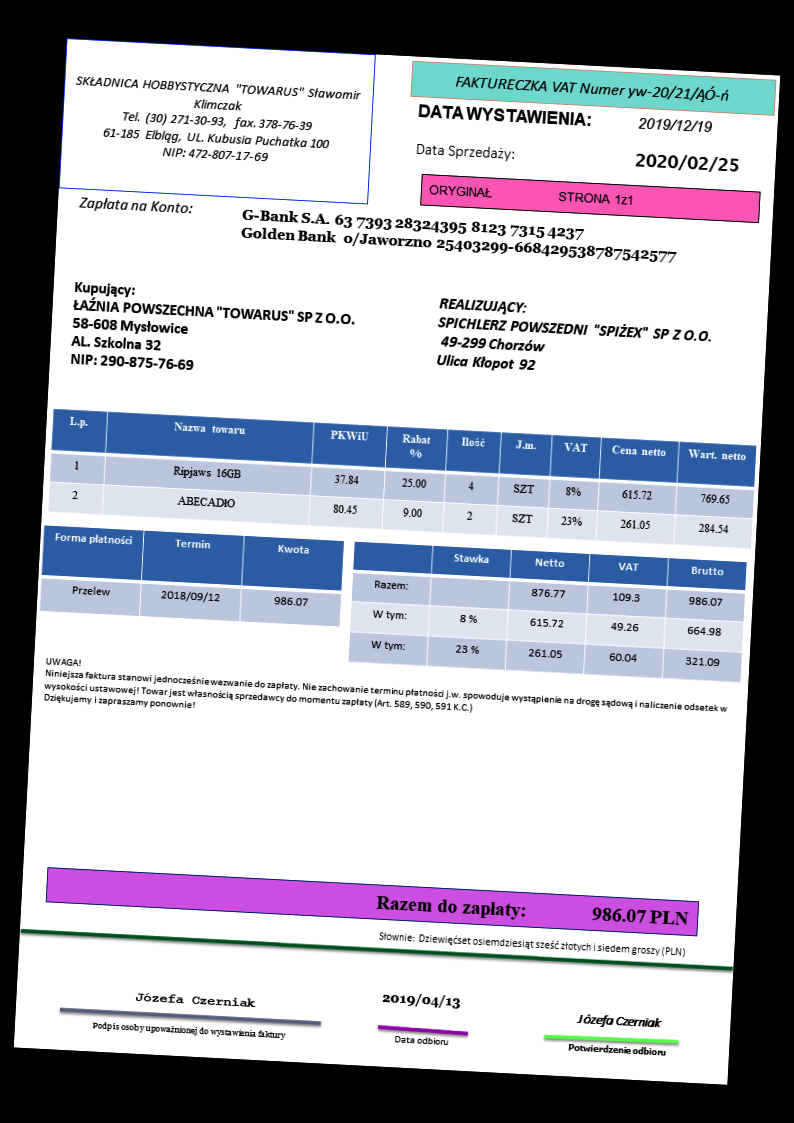Table: (46, 405, 757, 552), (347, 540, 749, 685), (38, 524, 344, 629)
TextBox: (41, 652, 731, 742), (67, 276, 358, 381), (67, 70, 365, 171), (238, 203, 680, 268), (433, 293, 716, 385), (373, 890, 690, 931), (450, 68, 734, 107), (376, 927, 690, 961), (425, 179, 638, 210), (415, 99, 595, 131), (89, 1017, 288, 1042), (632, 147, 742, 175), (77, 192, 193, 216), (414, 137, 517, 164), (132, 989, 257, 1010), (565, 1039, 670, 1060), (573, 1008, 664, 1032), (634, 111, 717, 137), (378, 988, 462, 1013), (391, 1031, 452, 1048)
